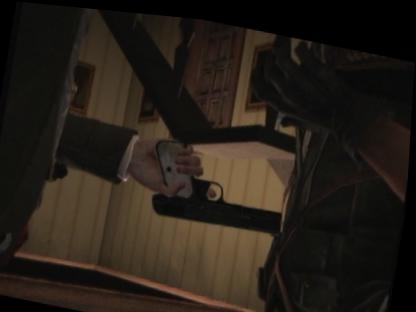pistol: (141, 132, 293, 236)
